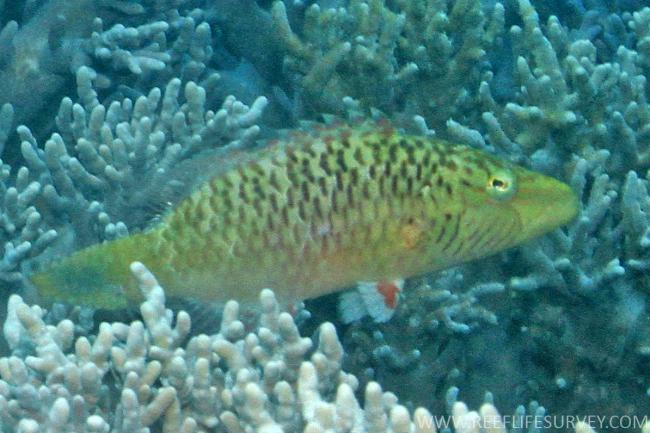fish: (26, 123, 580, 310)
